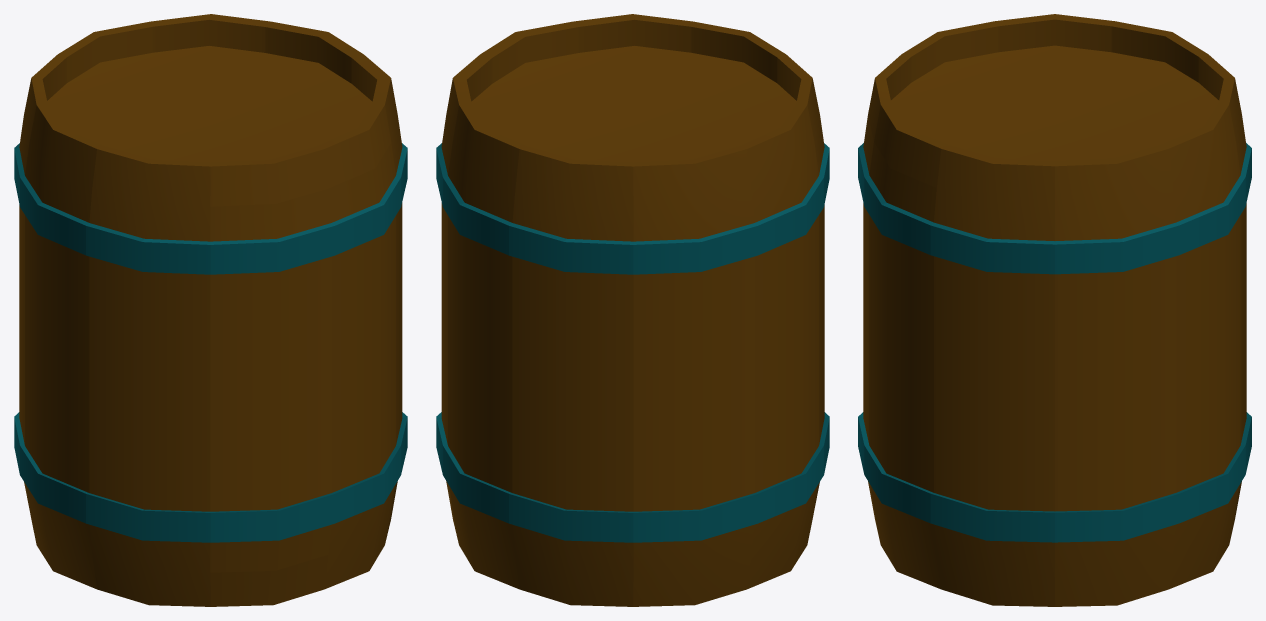
The model's file is Env_Barrel.fbx.
The picture shows the model from 3 angles, left to right: view 1: azimuth 30°, elevation 25°; view 2: azimuth 150°, elevation 25°; view 3: azimuth 270°, elevation 25°; orthographic projection.
Visible parts, largest first — view 1: Barrel; view 2: Barrel; view 3: Barrel.
Part boxes in pixels (<box>): Barrel: <box>14,14,407,606</box>; Barrel: <box>436,14,829,606</box>; Barrel: <box>858,14,1251,606</box>.
Bounding box in the file's own units: 65.66 × 81.41 × 65.79.
